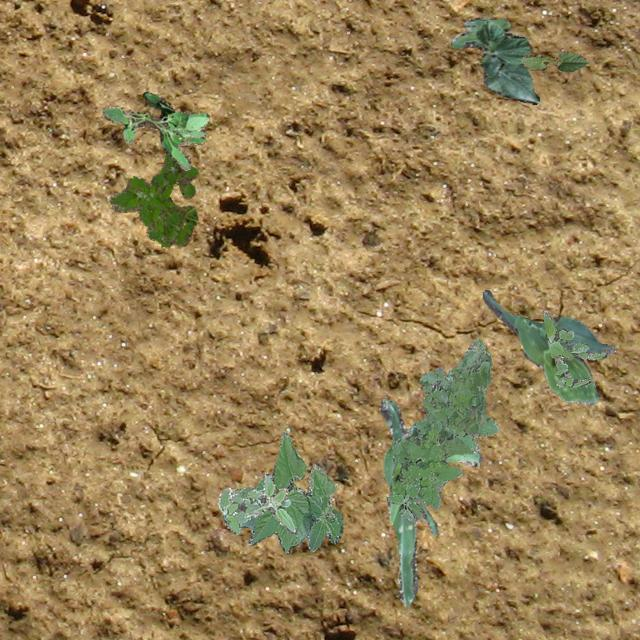crop: (378, 398, 481, 606), (482, 288, 614, 404), (232, 430, 342, 552), (449, 17, 538, 104), (382, 422, 437, 534), (520, 50, 588, 70)
weed: (390, 338, 498, 508), (102, 90, 208, 170), (108, 152, 198, 246), (542, 310, 608, 386), (216, 472, 296, 534), (386, 478, 420, 522)
